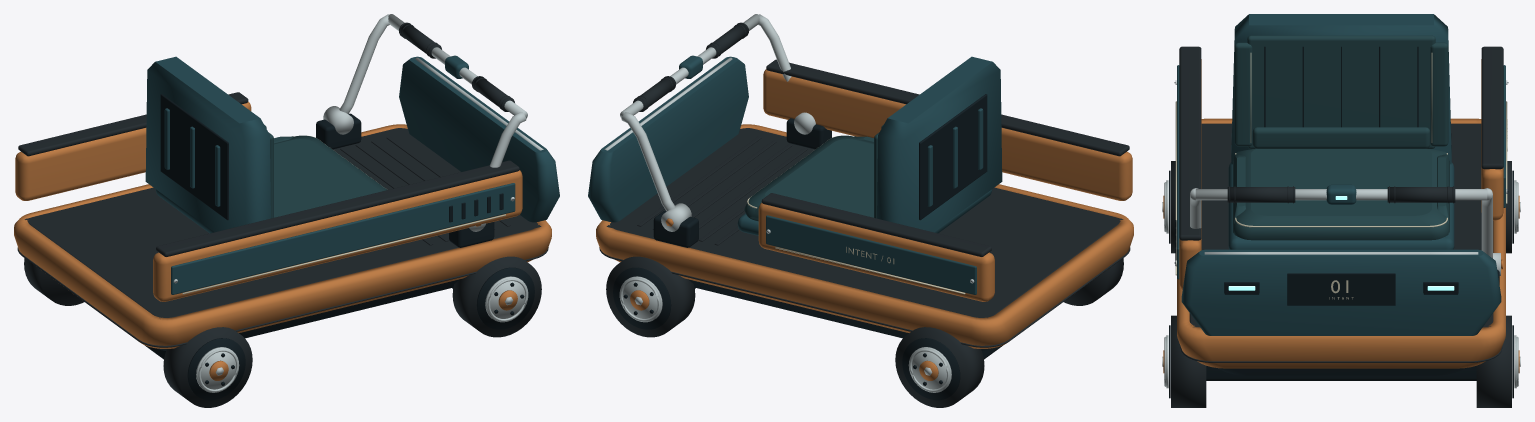
The model's file is coaster-car.glb.
3 renders of one model, left to right at view 1: azimuth 30°, elevation 25°; view 2: azimuth 150°, elevation 25°; view 3: azimuth 270°, elevation 25°, orthographic. The views are drawn at different scales.
Visible parts, largest first — view 1: 05 | Graphite elastomer and chassis, 02 | Deep petrol moulded shell, 01 | Satin copper automotive enamel, 07 | Recessed blackened steel, 03 | Brushed stainless fittings, 04 | Pebbled teal upholstery, 06 | Warm stitching and ceramic markings; view 2: 05 | Graphite elastomer and chassis, 01 | Satin copper automotive enamel, 02 | Deep petrol moulded shell, 07 | Recessed blackened steel, 03 | Brushed stainless fittings, 04 | Pebbled teal upholstery, 06 | Warm stitching and ceramic markings; view 3: 04 | Pebbled teal upholstery, 02 | Deep petrol moulded shell, 05 | Graphite elastomer and chassis, 01 | Satin copper automotive enamel, 07 | Recessed blackened steel, 03 | Brushed stainless fittings, 06 | Warm stitching and ceramic markings, 08 | Cyan status diffuser.
Part boxes in pixels (box(x1,y1,x2,y2)): 05 | Graphite elastomer and chassis: box(17, 22, 548, 407); 02 | Deep petrol moulded shell: box(145, 55, 559, 294); 01 | Satin copper automotive enamel: box(14, 102, 551, 380); 07 | Recessed blackened steel: box(145, 94, 534, 400); 03 | Brushed stainless fittings: box(173, 14, 543, 392); 04 | Pebbled teal upholstery: box(264, 125, 386, 218); 06 | Warm stitching and ceramic markings: box(182, 135, 505, 294); 05 | Graphite elastomer and chassis: box(599, 22, 1130, 407); 01 | Satin copper automotive enamel: box(596, 69, 1133, 380); 02 | Deep petrol moulded shell: box(588, 55, 1002, 294); 07 | Recessed blackened steel: box(613, 94, 1002, 400); 03 | Brushed stainless fittings: box(604, 14, 974, 392); 04 | Pebbled teal upholstery: box(744, 125, 883, 221); 06 | Warm stitching and ceramic markings: box(747, 135, 965, 294); 04 | Pebbled teal upholstery: box(1233, 35, 1449, 240); 02 | Deep petrol moulded shell: box(1177, 14, 1505, 335); 05 | Graphite elastomer and chassis: box(1171, 46, 1511, 407); 01 | Satin copper automotive enamel: box(1163, 59, 1519, 373); 07 | Recessed blackened steel: box(1164, 46, 1518, 398); 03 | Brushed stainless fittings: box(1162, 80, 1520, 388); 06 | Warm stitching and ceramic markings: box(1175, 53, 1507, 299); 08 | Cyan status diffuser: box(1228, 196, 1454, 290).
Size of the model in its own units: 2.93 by 1.66 by 2.02.
